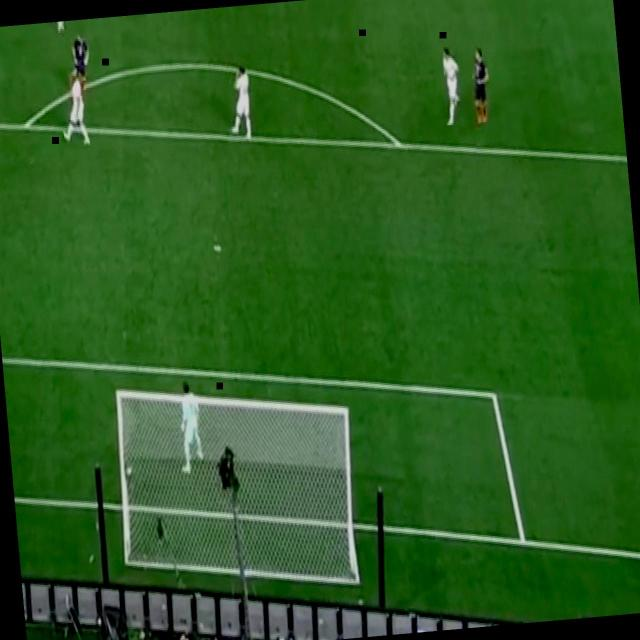player-white: (170, 374, 208, 480), (54, 64, 94, 152), (436, 40, 468, 134), (223, 60, 257, 146), (467, 40, 496, 130), (69, 24, 95, 99), (52, 21, 72, 37)
